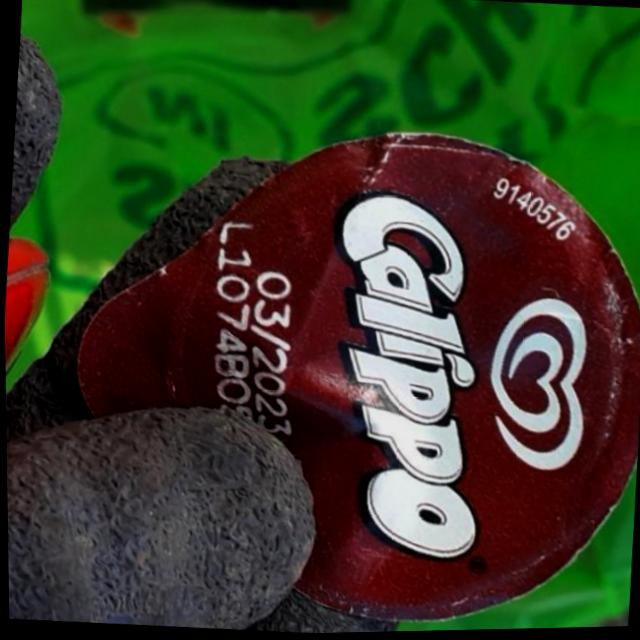Paper: (51, 103, 640, 639)
